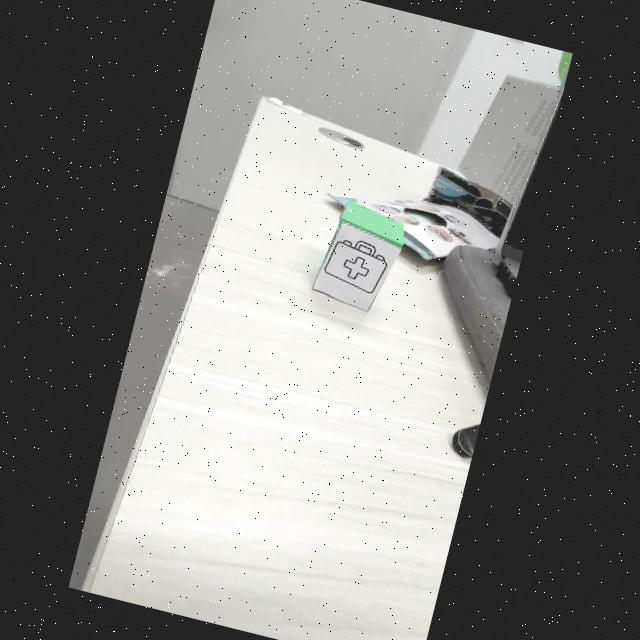Medkit: (324, 240, 387, 294)
